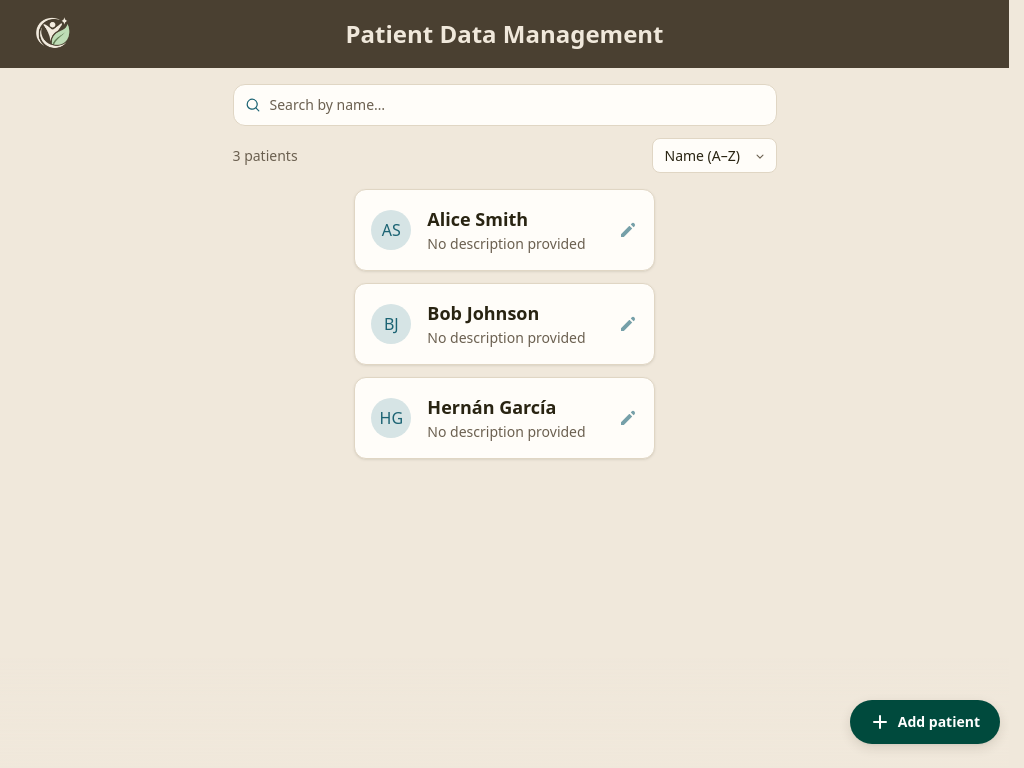
App — search and filtering › matches accented names with unaccented search term
Type "hernan" into the field named "search patients".
click(504, 105); type("hernan")  # box [232, 84, 776, 126]
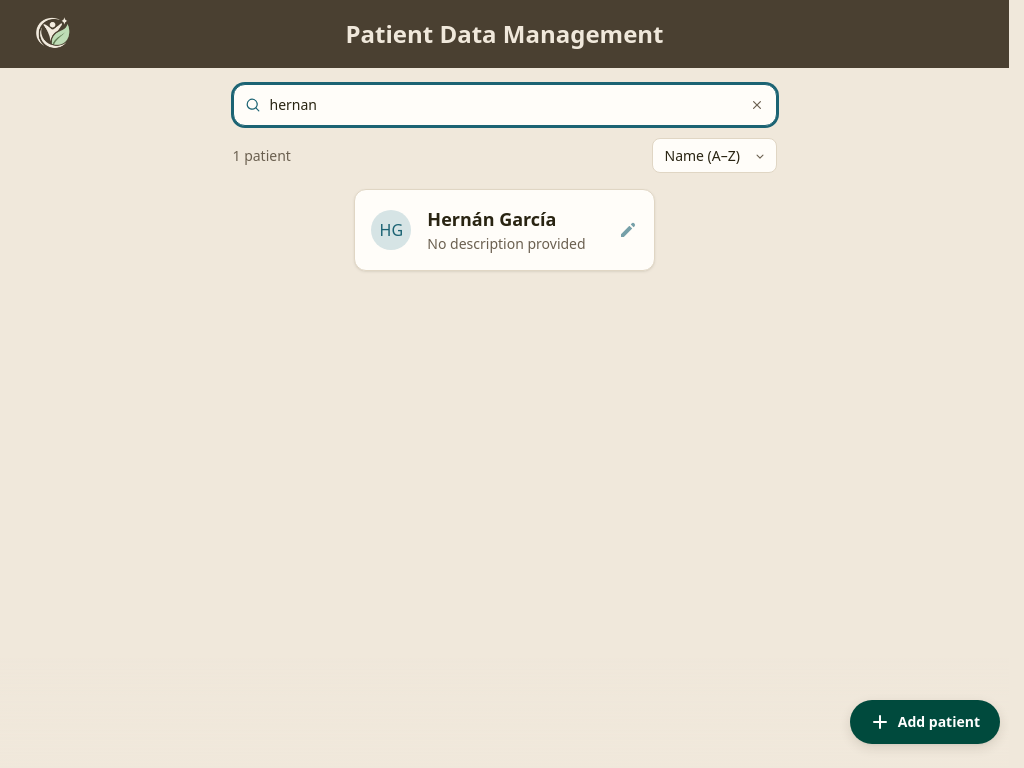
Expected: the text "Hernán García" is shown, [427, 207, 556, 231]
Now the button "Alice Smith" is gone
